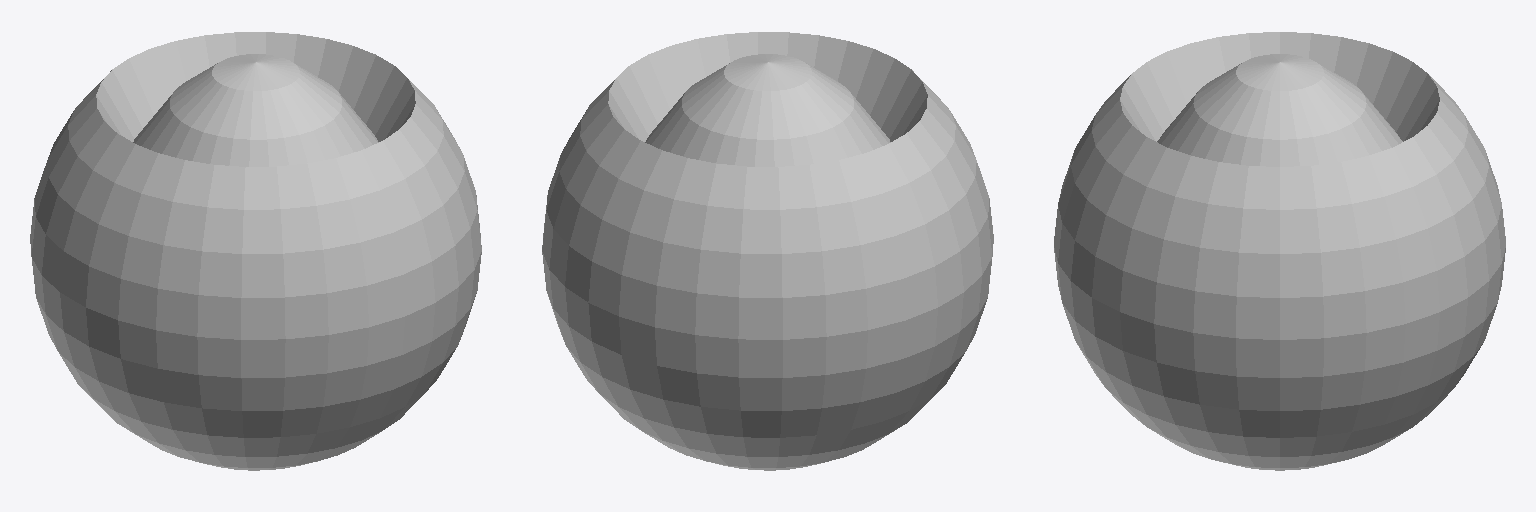
The model's file is warpedSphere.obj.
3 views of the same model, side by side, from view 1: azimuth 30°, elevation 25°; view 2: azimuth 150°, elevation 25°; view 3: azimuth 270°, elevation 25° (orthographic).
Parts seen in each view (by area): view 1: Sphere; view 2: Sphere; view 3: Sphere.
Boxes of the visible parts, box(x1,y1,x2,y2) form: Sphere: box(30, 32, 481, 470); Sphere: box(542, 32, 993, 470); Sphere: box(1054, 32, 1505, 470).
Size of the model in its own units: 2 by 1.89 by 2.